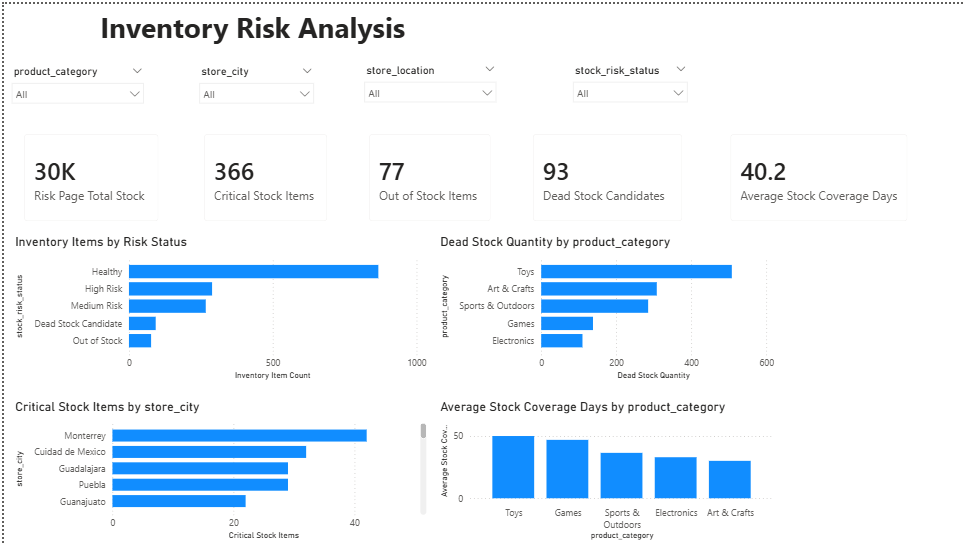

This screenshot's page, from the dashboard's own definition file:
{"tool":"powerbi","page":{"name":"Inventory Risk Analysis","canvas":[1280,720],"ordinal":3},"visuals":[{"type":"textbox","box":[10,0,598.3,76.7],"z":0},{"type":"slicer","fields":{"Values":["vw_stock_risk.product_category"]},"box":[0,76.7,196.7,68.3],"z":1000},{"type":"slicer","fields":{"Values":["vw_stock_risk.store_location"]},"box":[470,75,196.7,70],"z":2000},{"type":"slicer","fields":{"Values":["vw_stock_risk.store_city"]},"box":[250,76.7,173.3,68.3],"z":3000},{"type":"slicer","fields":{"Values":["vw_stock_risk.stock_risk_status"]},"box":[748.3,75,173.3,70],"z":4000},{"type":"cardVisual","fields":{"Data":["vw_stock_risk.Risk Page Total Stock"]},"box":[10,156.7,213.3,150],"z":5000},{"type":"cardVisual","fields":{"Data":["vw_stock_risk.Average Stock Coverage Days"]},"box":[951.7,156.7,270,150],"z":6000},{"type":"cardVisual","fields":{"Data":["vw_stock_risk.Critical Stock Items"]},"box":[250,156.7,198.3,150],"z":7000},{"type":"cardVisual","fields":{"Data":["vw_stock_risk.Dead Stock Candidates"]},"box":[688.3,156.7,233.3,150],"z":8000},{"type":"cardVisual","fields":{"Data":["vw_stock_risk.Out of Stock Items"]},"box":[470,156.7,196.7,150],"z":9000},{"type":"clusteredBarChart","title":"Inventory Items by Risk Status","fields":{"Category":["vw_stock_risk.stock_risk_status"],"Y":["vw_stock_risk.Inventory Item Count"]},"box":[10,306.7,558.3,200],"z":10000},{"type":"clusteredBarChart","fields":{"Category":["vw_stock_risk.store_city"],"Y":["vw_stock_risk.Critical Stock Items"]},"box":[10,526.7,558.3,193.3],"z":11000},{"type":"clusteredBarChart","fields":{"Category":["vw_stock_risk.product_category"],"Y":["vw_stock_risk.Dead Stock Quantity"]},"box":[576.7,306.7,455,200],"z":12000},{"type":"clusteredColumnChart","fields":{"Category":["vw_stock_risk.product_category"],"Y":["vw_stock_risk.Average Stock Coverage Days"]},"box":[576.7,526.7,455,193.3],"z":13000}]}

Visuals, with their boxes in screenshot pixels (x1, y1, x2, y2), scaled from the page's 1280x720 canvas onto the 963x543 screenshot:
textbox: [8, 0, 458, 58]
slicer - vw_stock_risk.product_category: [0, 58, 148, 109]
slicer - vw_stock_risk.store_location: [354, 57, 502, 109]
slicer - vw_stock_risk.store_city: [188, 58, 318, 109]
slicer - vw_stock_risk.stock_risk_status: [563, 57, 693, 109]
cardVisual - vw_stock_risk.Risk Page Total Stock: [8, 118, 168, 231]
cardVisual - vw_stock_risk.Average Stock Coverage Days: [716, 118, 919, 231]
cardVisual - vw_stock_risk.Critical Stock Items: [188, 118, 337, 231]
cardVisual - vw_stock_risk.Dead Stock Candidates: [518, 118, 693, 231]
cardVisual - vw_stock_risk.Out of Stock Items: [354, 118, 502, 231]
"Inventory Items by Risk Status" clusteredBarChart: [8, 231, 428, 382]
clusteredBarChart - vw_stock_risk.store_city x vw_stock_risk.Critical Stock Items: [8, 397, 428, 542]
clusteredBarChart - vw_stock_risk.product_category x vw_stock_risk.Dead Stock Quantity: [434, 231, 776, 382]
clusteredColumnChart - vw_stock_risk.product_category x vw_stock_risk.Average Stock Coverage Days: [434, 397, 776, 542]
